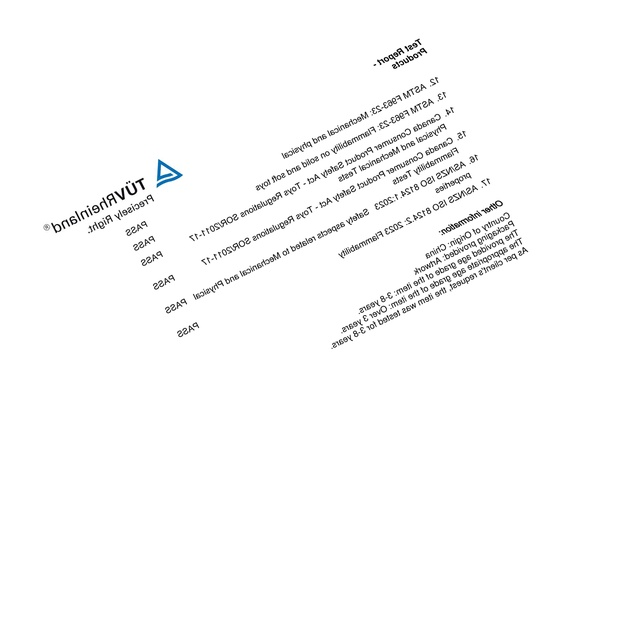tuv_rheinland: (42, 156, 184, 236)
